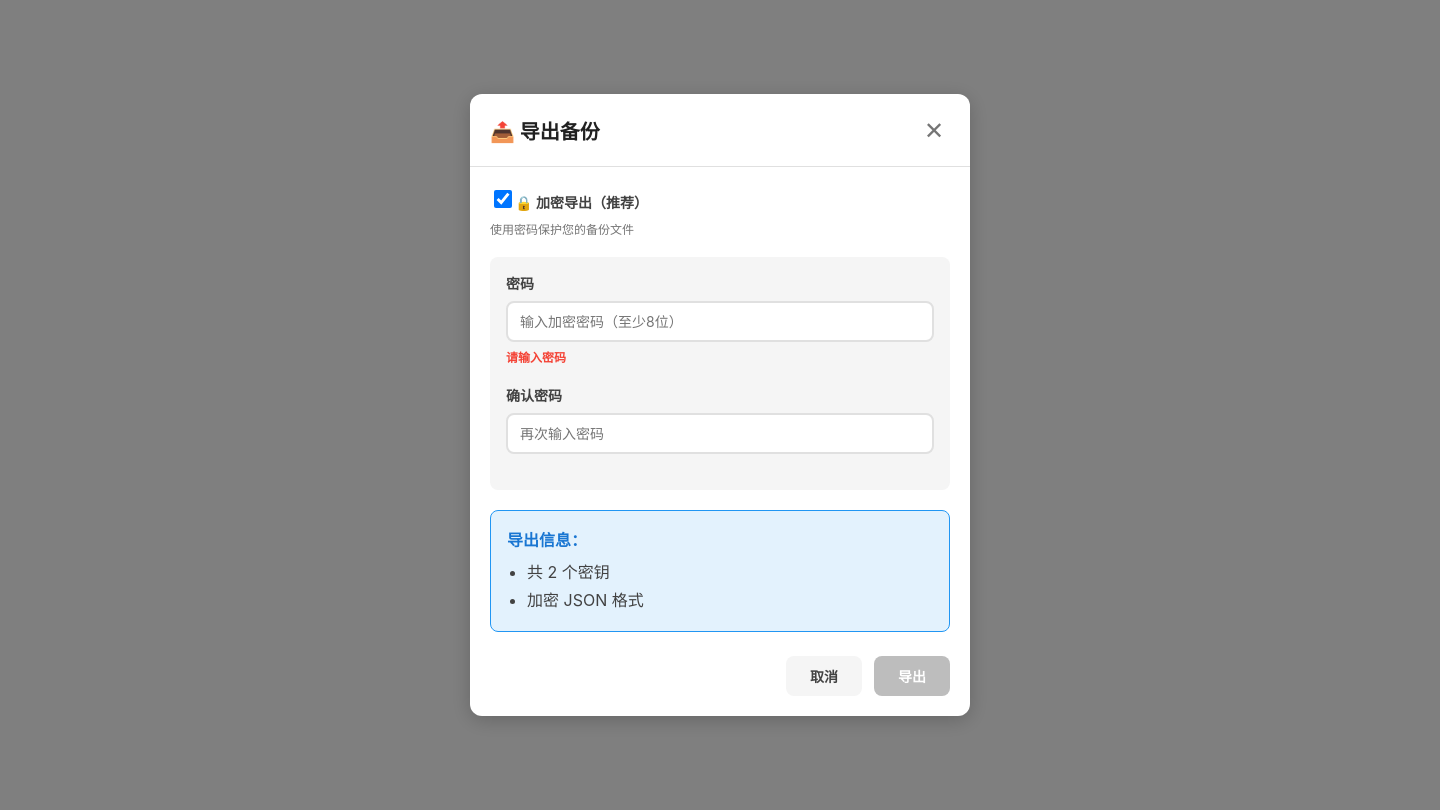
it: ExportDialog › should validate password match
The image size is (1440, 810).
Type "password123" into the password field labelled "密码" at (720, 322), box [506,301,934,342]
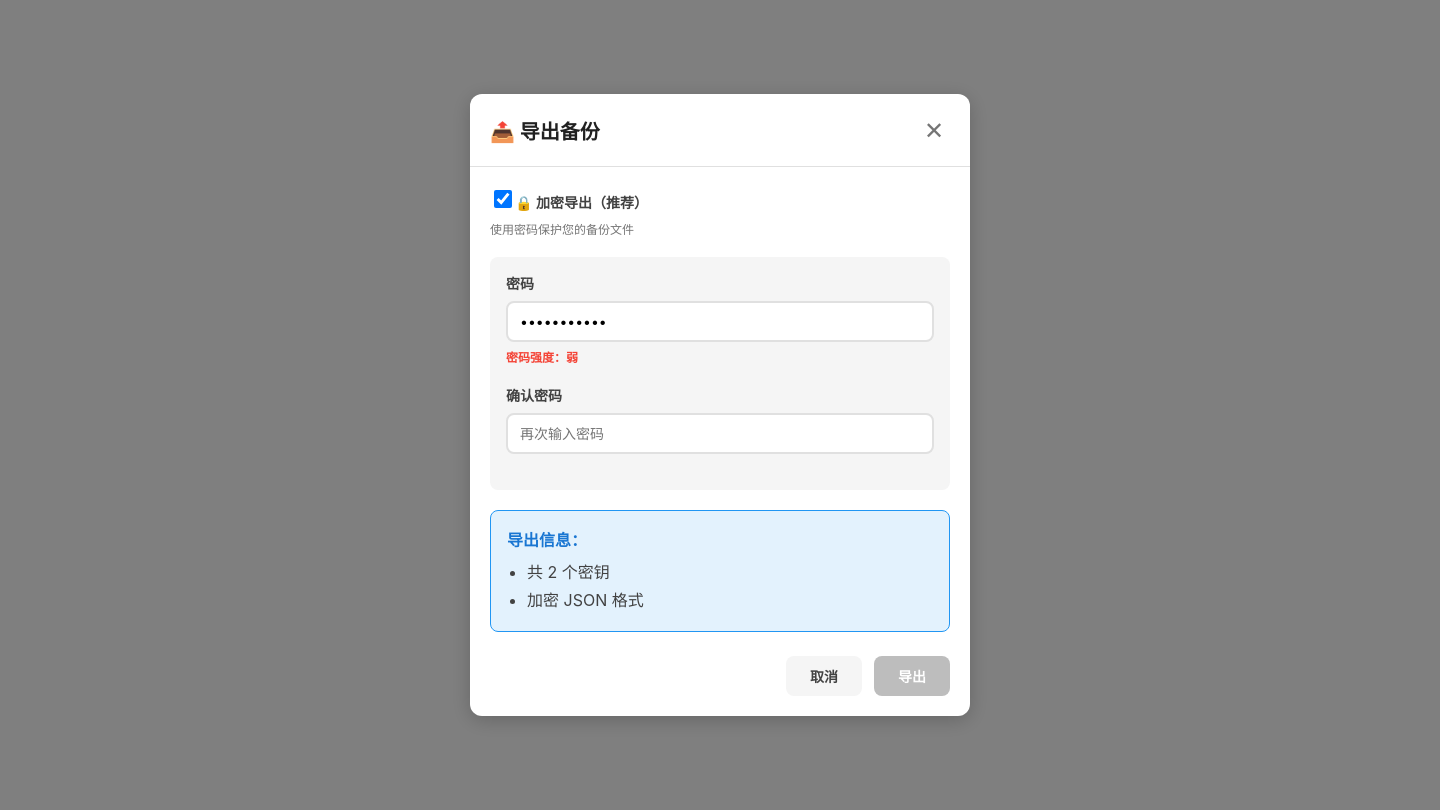
Type "different" into the password field labelled "确认密码" at (720, 434), box [506,413,934,454]
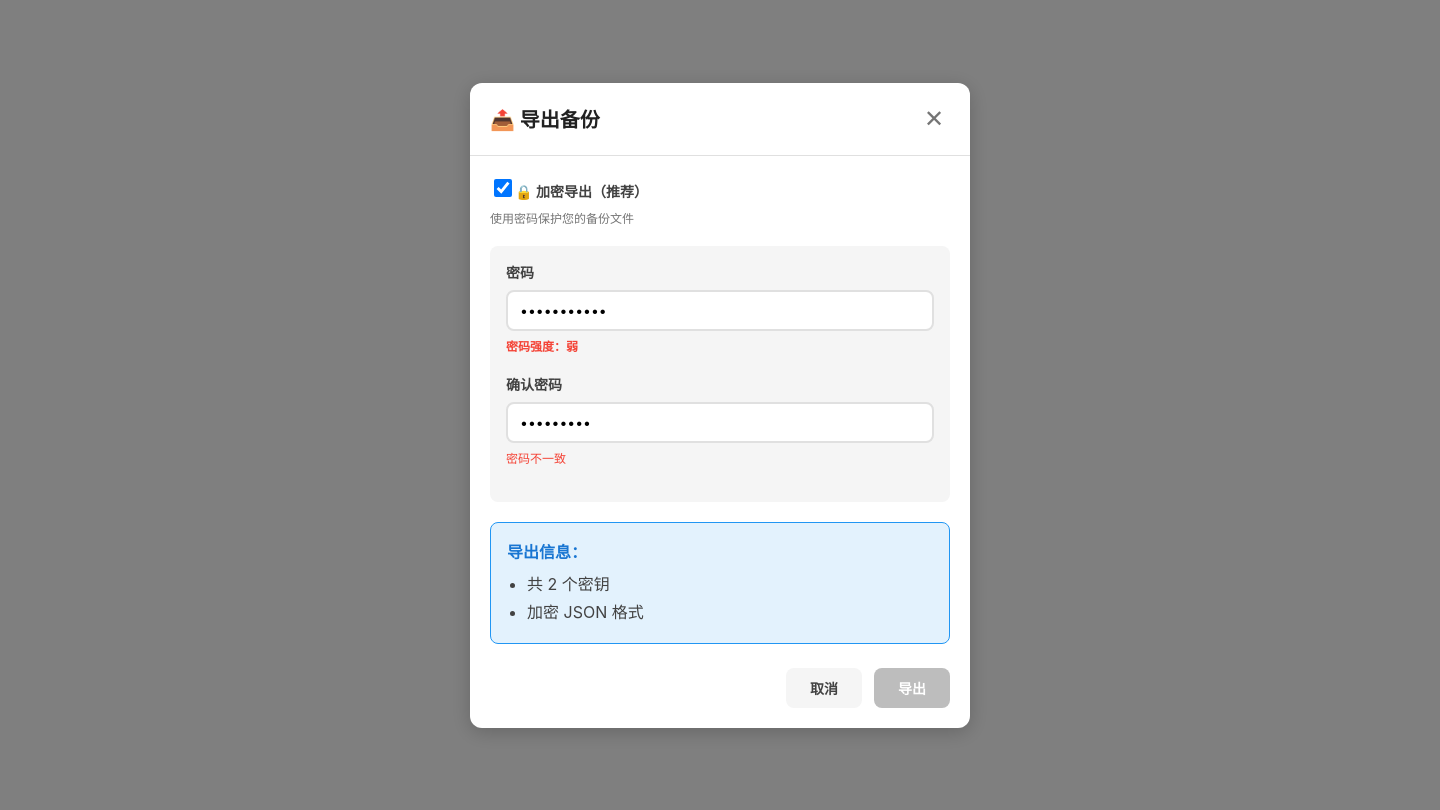
Now the text "密码不一致" is shown, box [506,450,566,466]
